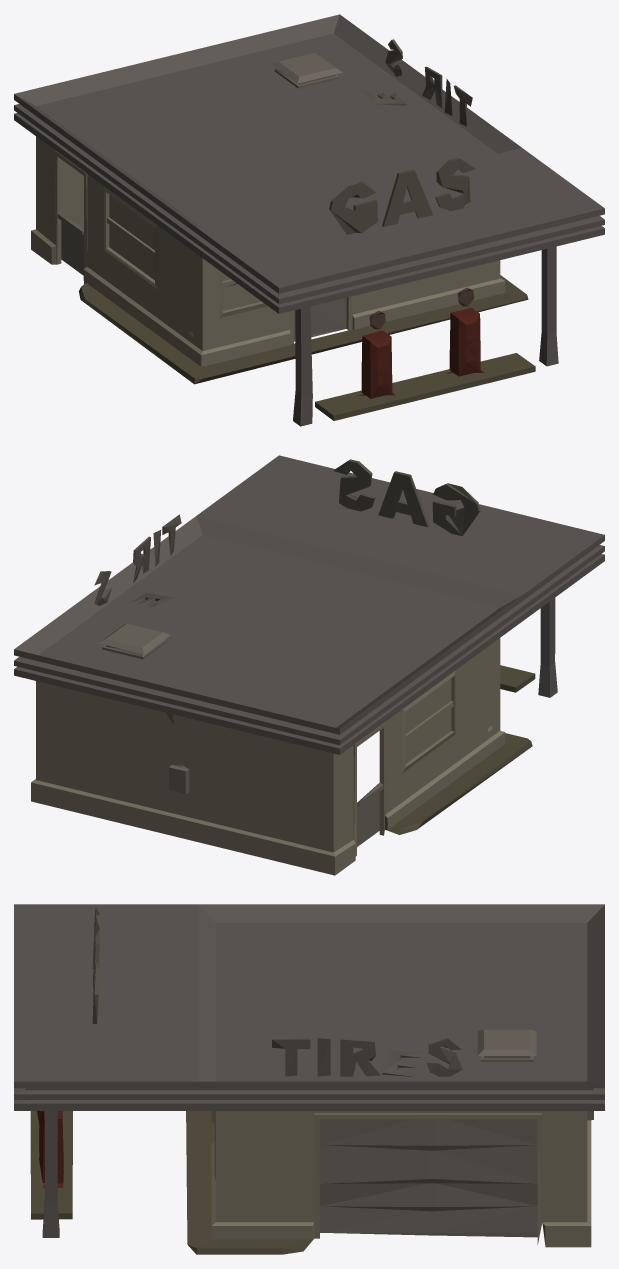
The model's file is roadside-gas.lod2.glb.
3 views of the same model, one above another, from view 1: azimuth 30°, elevation 25°; view 2: azimuth 150°, elevation 25°; view 3: azimuth 270°, elevation 25° (orthographic). The views are drawn at different scales.
Visible parts, largest first — view 1: Gas_Pump:Pump_Top_Sign_Geo_pump_misc_shader_0; view 2: Gas_Pump:Pump_Top_Sign_Geo_pump_misc_shader_0; view 3: Gas_Pump:Pump_Top_Sign_Geo_pump_misc_shader_0.
Boxes of the visible parts, <box> form: Gas_Pump:Pump_Top_Sign_Geo_pump_misc_shader_0: <box>14,14,604,426</box>; Gas_Pump:Pump_Top_Sign_Geo_pump_misc_shader_0: <box>14,455,604,875</box>; Gas_Pump:Pump_Top_Sign_Geo_pump_misc_shader_0: <box>14,904,604,1254</box>.
Bounding box in the file's own units: 12.81 × 7.46 × 17.41.
